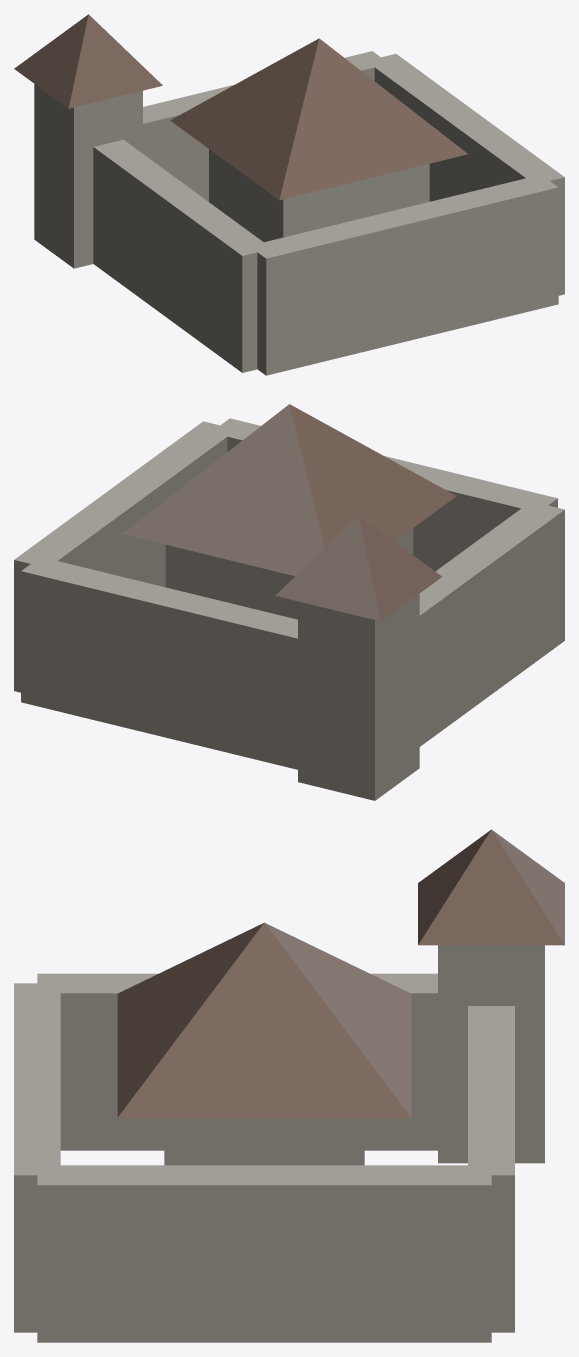
Rendered from county.gltf.
The picture shows the model from 3 angles, top to bottom: view 1: azimuth 30°, elevation 25°; view 2: azimuth 150°, elevation 25°; view 3: azimuth 270°, elevation 25°; orthographic projection. The views are drawn at different scales.
Parts seen in each view (by area): view 1: building-county; view 2: building-county; view 3: building-county.
Part boxes in pixels (<box>): building-county: <box>14,14,564,375</box>; building-county: <box>14,404,564,800</box>; building-county: <box>14,829,564,1342</box>.
Bounding box in the file's own units: 0.825 × 0.519 × 0.825.
